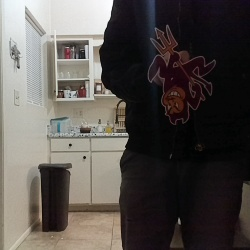sparky: (146, 23, 216, 125)
